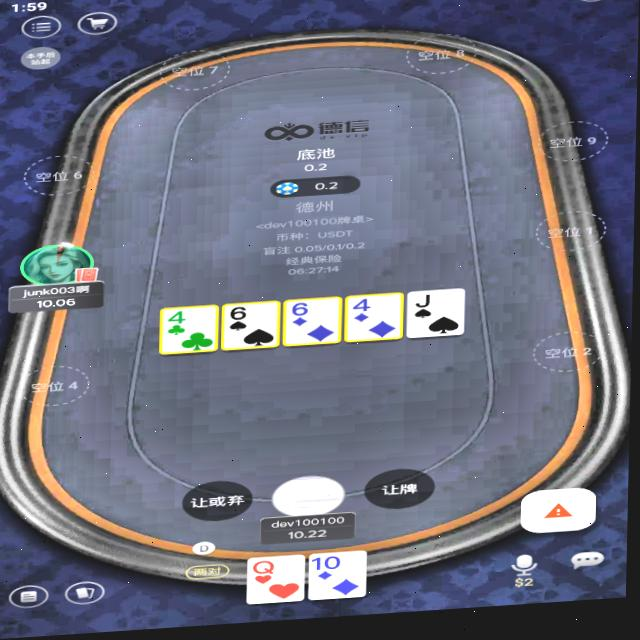10f: (313, 559, 346, 578)
4f: (352, 300, 378, 319)
4m: (167, 312, 193, 329)
6f: (290, 304, 316, 323)
6s: (228, 308, 253, 325)
Js: (415, 299, 438, 315)
Qh: (253, 562, 281, 580)
